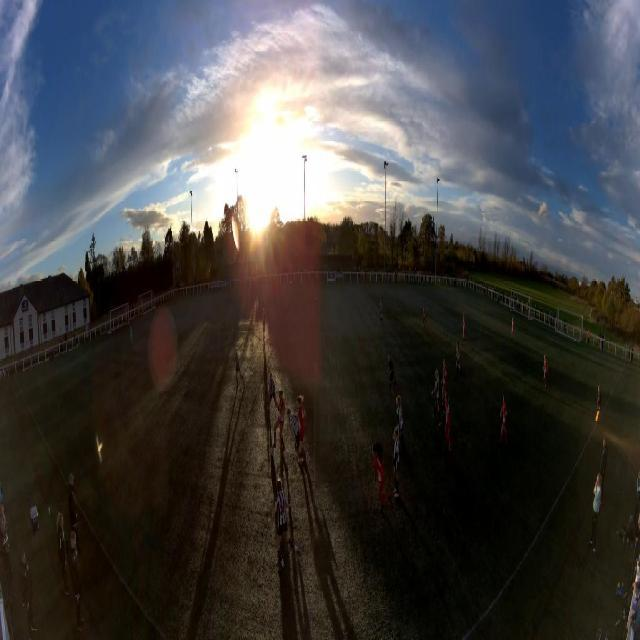ball: (270, 446, 274, 457)
player: (269, 476, 300, 573), (370, 441, 391, 515), (287, 407, 307, 465), (271, 387, 285, 456), (296, 393, 307, 442), (393, 428, 401, 494), (266, 372, 279, 412), (431, 369, 441, 420), (386, 352, 398, 393), (444, 395, 452, 455), (235, 347, 245, 389), (500, 394, 507, 445), (397, 392, 403, 439), (441, 359, 447, 404), (455, 341, 461, 380), (543, 354, 548, 388), (261, 308, 266, 339), (378, 299, 383, 327), (462, 314, 466, 345), (423, 304, 428, 328), (129, 324, 133, 348), (511, 317, 514, 341)
